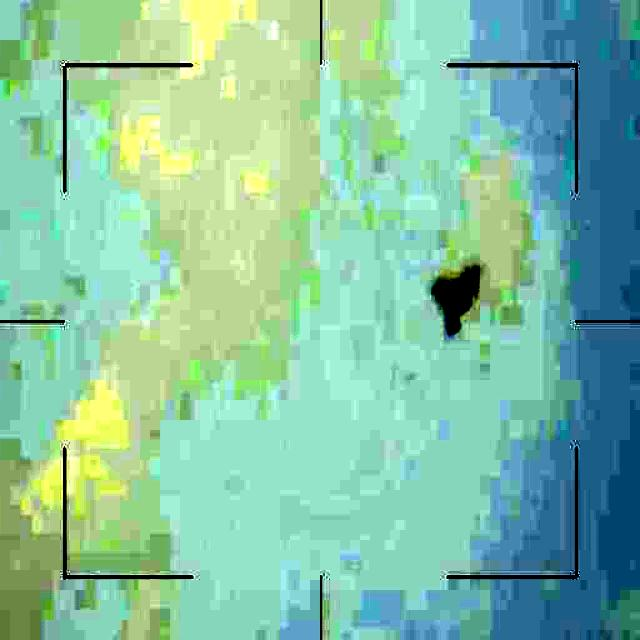bird: (438, 259, 494, 342)
